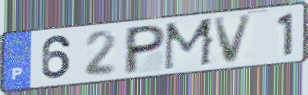1: (275, 11, 298, 58)
2: (83, 30, 118, 78)
6: (40, 34, 73, 83)
M: (162, 16, 217, 73)
P: (121, 23, 168, 77)
V: (211, 12, 256, 67)
